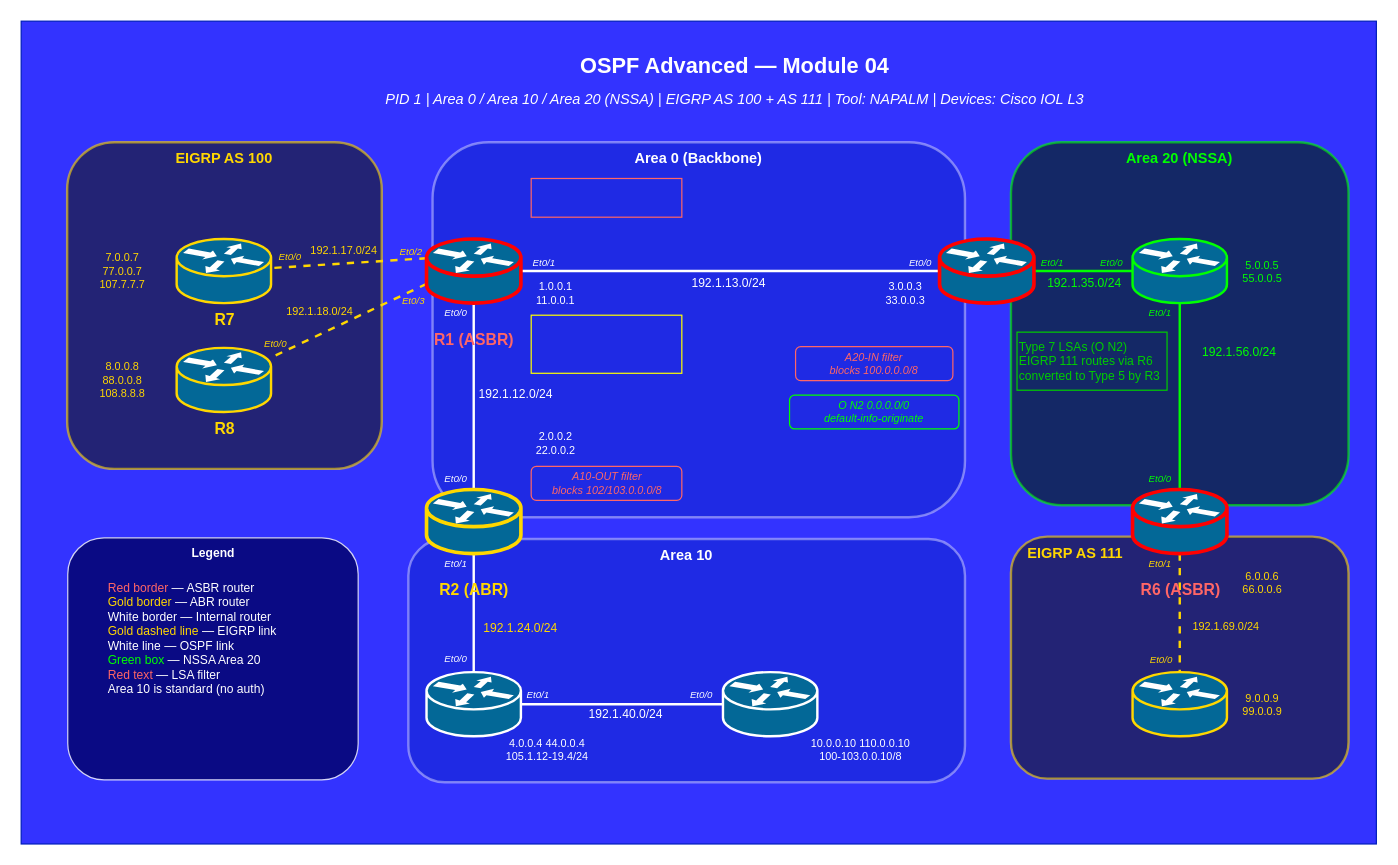
This 1398x865 diagram has some shape labels left out. The shapes that lost their labels are listed below. From the top down, each one's centre as x and y in pixels, then its label:
pixel 606 197: Type 5 LSAs (O E1) EIGRP 100 routes via R1
pixel 986 270: R3 (ABR+ASBR)
pixel 1179 270: R5
pixel 606 343: Type 4 LSAs R1 ASBR reachability into Area 10
pixel 473 703: R4
pixel 769 703: R10
pixel 1179 703: R9
